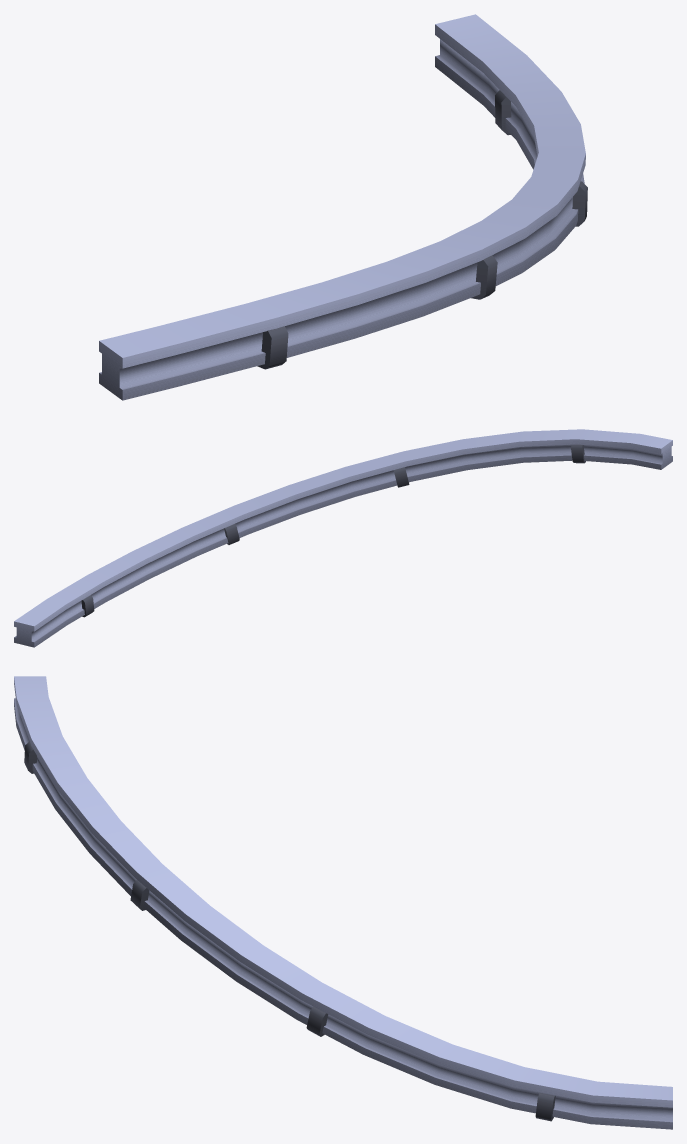
The model's file is coaster-kit--coaster-monorail-corner-large-ramp.glb.
3 views of the same model, one above another, from view 1: azimuth 30°, elevation 25°; view 2: azimuth 150°, elevation 25°; view 3: azimuth 270°, elevation 25° (orthographic). The views are drawn at different scales.
Visible parts, largest first — view 1: coaster-monorail-corner-large-ramp; view 2: coaster-monorail-corner-large-ramp; view 3: coaster-monorail-corner-large-ramp.
Part boxes in pixels (x1,y1,x2,y2): coaster-monorail-corner-large-ramp: (99,14,587,400); coaster-monorail-corner-large-ramp: (14,429,672,647); coaster-monorail-corner-large-ramp: (14,676,672,1129).
Bounding box in the file's own units: 4.1 × 1.2 × 4.1.
Materials: 1 (1 with a texture image).
